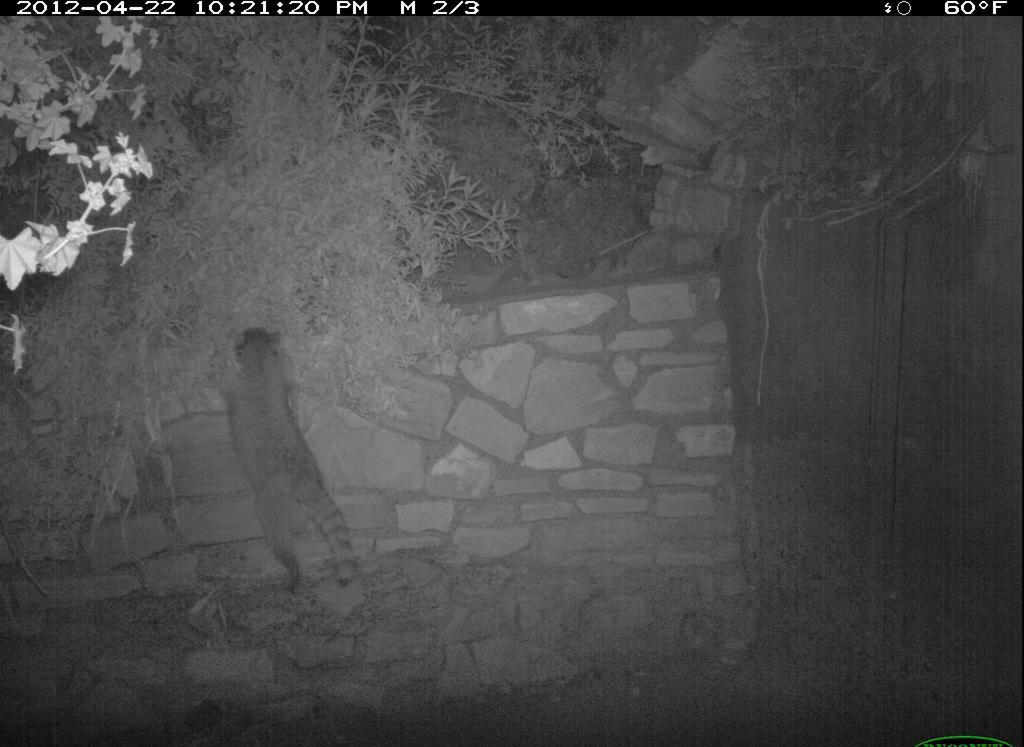raccoon: (206, 324, 361, 597)
